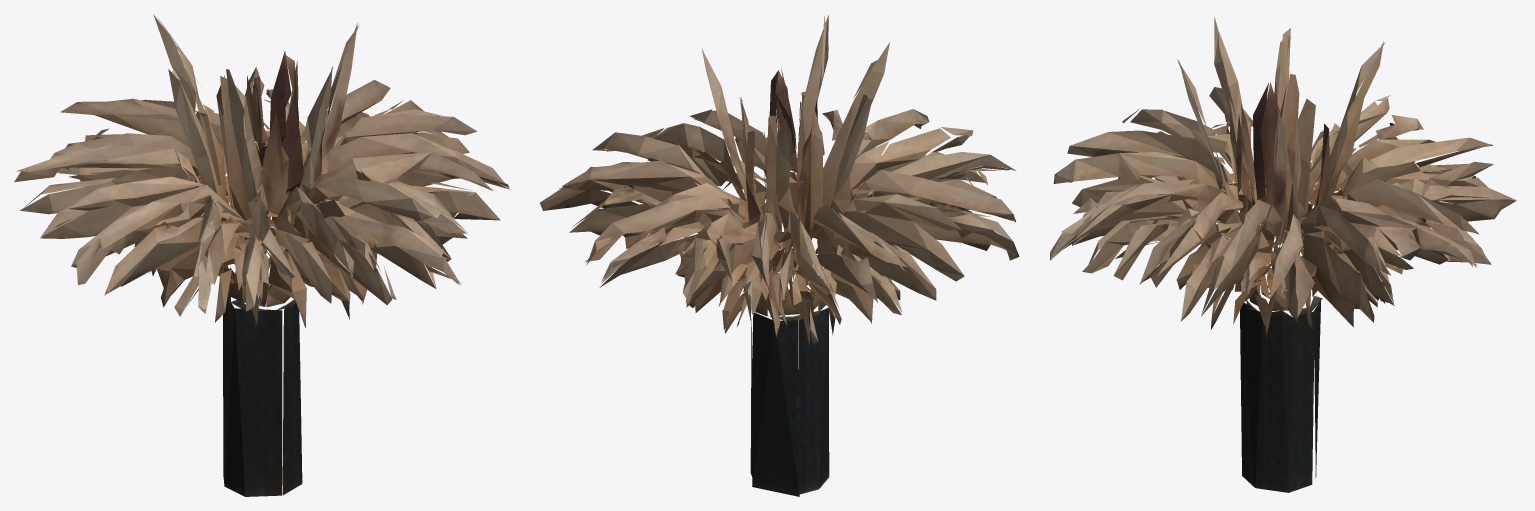
Rendered from d-vase.glb.
The picture shows the model from 3 angles, left to right: view 1: azimuth 30°, elevation 25°; view 2: azimuth 150°, elevation 25°; view 3: azimuth 270°, elevation 25°; orthographic projection. The views are drawn at different scales.
Visible parts, largest first — view 1: geometry_0; view 2: geometry_0; view 3: geometry_0.
Part boxes in pixels (bbox=[...]): geometry_0: bbox=[14, 14, 510, 496]; geometry_0: bbox=[540, 15, 1019, 496]; geometry_0: bbox=[1050, 16, 1516, 492].
Bounding box in the file's own units: 0.9948 × 1.01 × 0.9944.
Materials: 1 (1 with a texture image).
